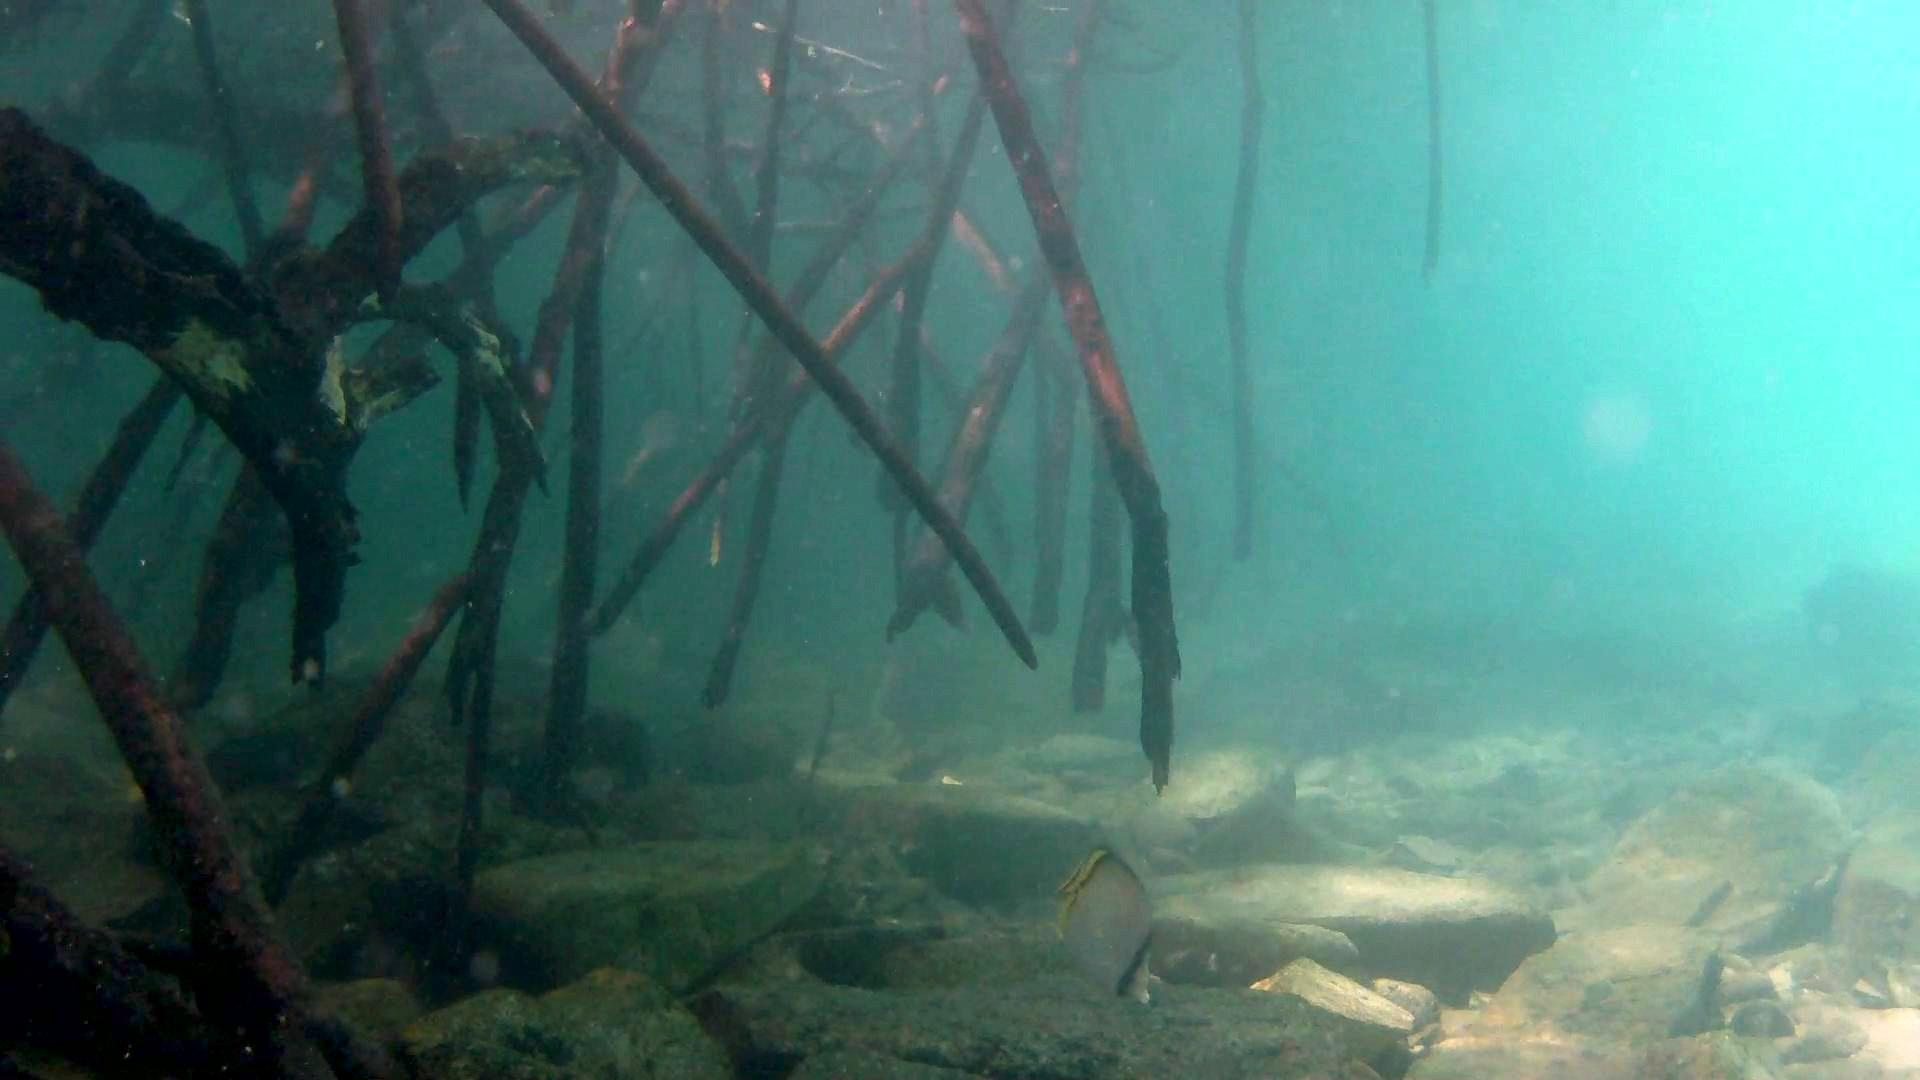chaetodon vagabundus: (1055, 843, 1156, 1007)
